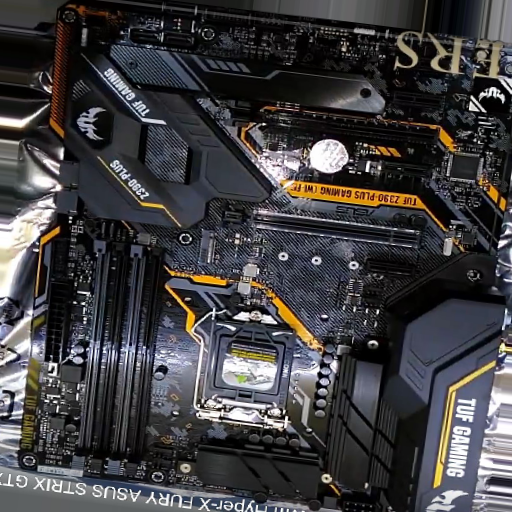CPU: (197, 307, 296, 431)
GPU: (226, 101, 440, 150), (221, 203, 421, 255)
MOTHERBOARD: (27, 1, 498, 512)
RAM: (74, 241, 165, 460)
SSD: (196, 228, 216, 266)
